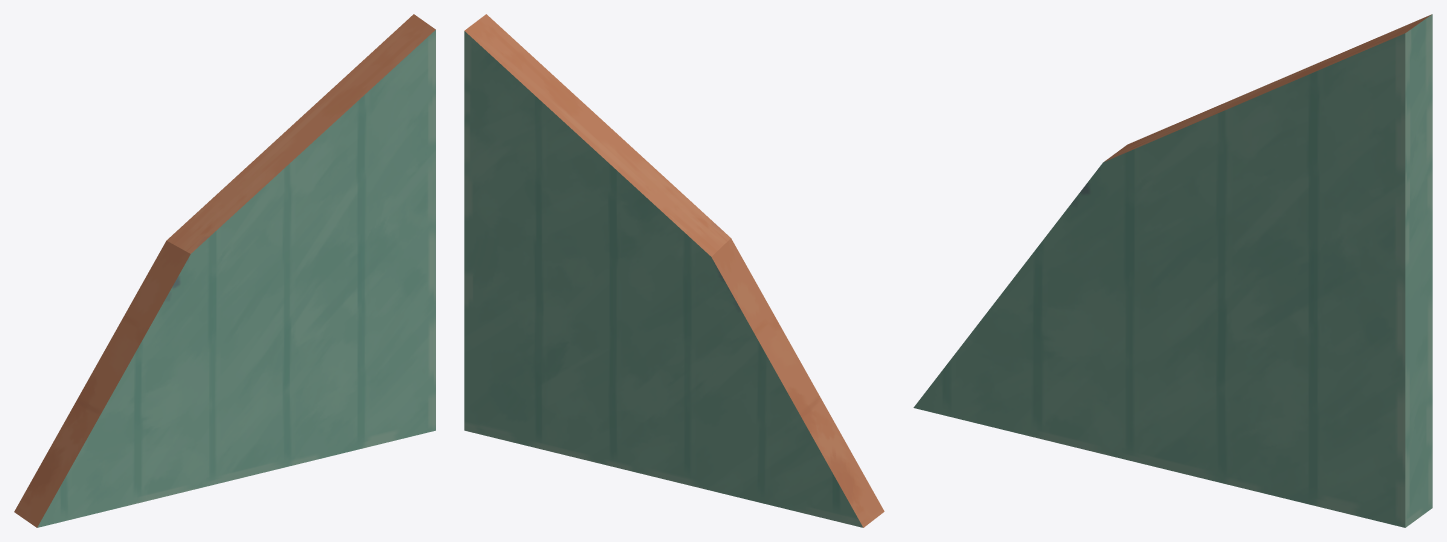
Rendered from door2_teal_s00.fbx.
3 views of the same model, side by side, from view 1: azimuth 30°, elevation 25°; view 2: azimuth 150°, elevation 25°; view 3: azimuth 330°, elevation 25° (orthographic). The views are drawn at different scales.
Parts seen in each view (by area): view 1: door2_teal_s00; view 2: door2_teal_s00; view 3: door2_teal_s00.
Boxes of the visible parts, x1,y1,x2,y2 form: door2_teal_s00: (14, 14, 435, 527); door2_teal_s00: (464, 14, 884, 527); door2_teal_s00: (913, 14, 1432, 527).
Size of the model in its own units: 2.93 by 2.8 by 0.28.
